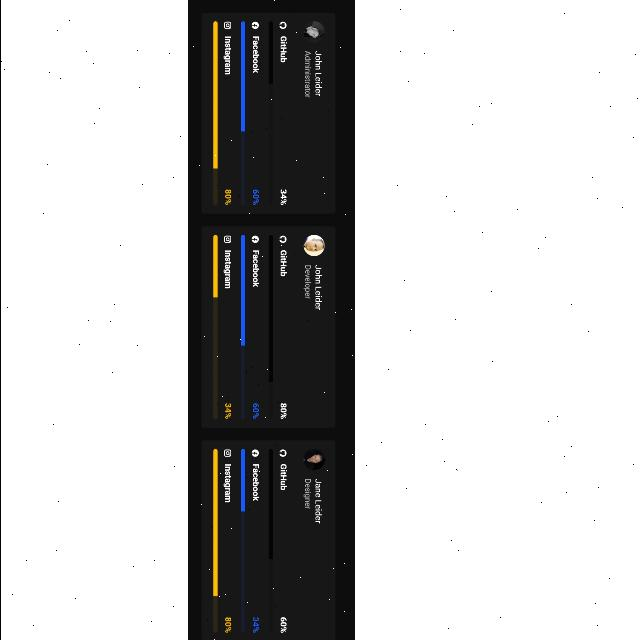QLabel: (312, 50, 322, 96), (222, 34, 232, 76), (250, 462, 260, 502), (314, 478, 322, 524), (314, 264, 322, 310), (251, 34, 259, 74), (223, 463, 231, 503), (304, 50, 310, 100), (303, 264, 311, 300), (223, 250, 230, 288), (279, 34, 287, 64), (279, 248, 287, 278), (279, 462, 287, 492), (252, 249, 258, 287), (304, 479, 310, 511), (251, 616, 259, 634), (223, 402, 231, 420), (251, 189, 259, 205), (223, 616, 230, 634), (223, 188, 230, 206), (280, 402, 286, 420), (280, 188, 286, 206), (280, 616, 286, 634), (252, 404, 258, 418)
VCard: (198, 225, 336, 430), (198, 438, 336, 640), (199, 12, 335, 215)
VIcon: (278, 21, 286, 29), (250, 21, 258, 29), (223, 21, 231, 29), (250, 235, 258, 243), (223, 235, 231, 243), (250, 449, 258, 457), (278, 235, 286, 242), (278, 449, 286, 456), (223, 449, 230, 456)
VImg: (302, 21, 324, 43), (302, 448, 324, 469), (302, 236, 324, 256)
VProgressLinear: (211, 21, 217, 205), (239, 235, 245, 419), (268, 448, 272, 634), (240, 448, 244, 634), (212, 448, 216, 634), (212, 235, 216, 420), (268, 21, 272, 205), (240, 21, 244, 205), (268, 234, 272, 418)
